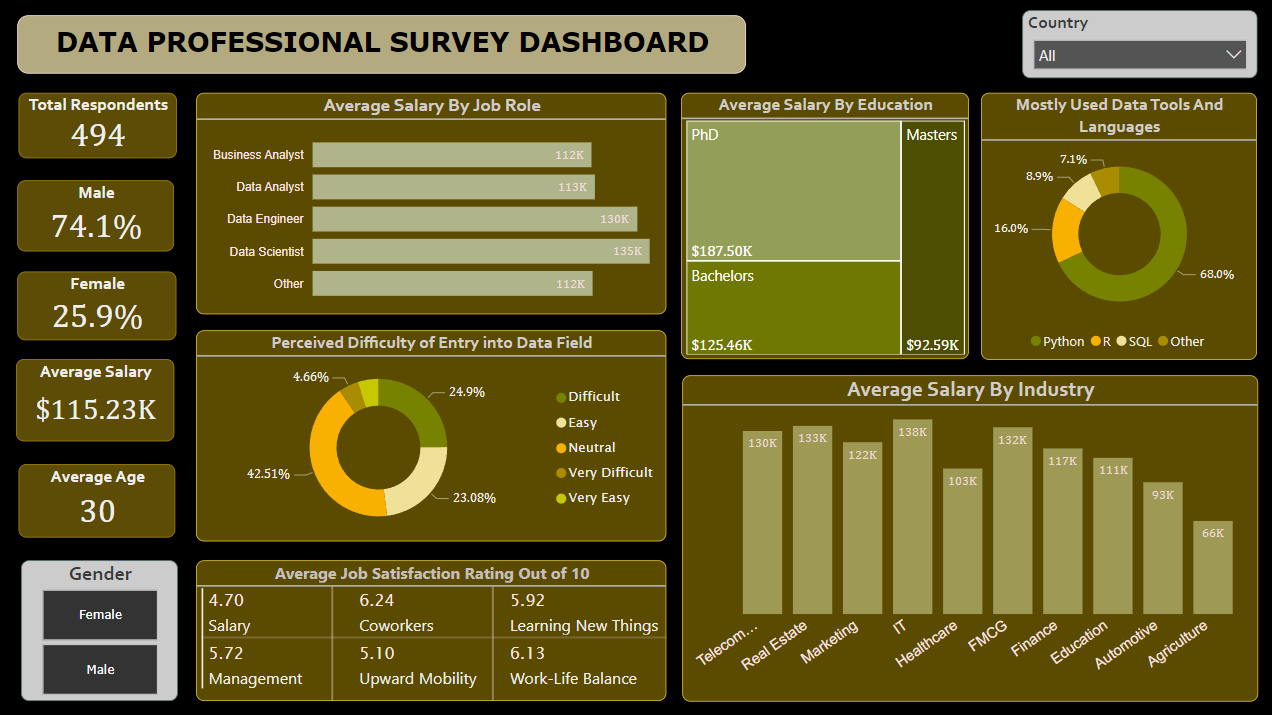

The dashboard page shown, as its layout file describes it:
{"tool":"powerbi","page":{"name":"Page 1","canvas":[1280,720],"ordinal":0},"visuals":[{"type":"card","title":"Total Respondents","fields":{"Values":["All Measures.total"]},"box":[22.8,93.6,158.1,65.8],"z":0},{"type":"card","title":"Male ","fields":{"Values":["All Measures.% Male"]},"box":[21.4,180.9,157.1,71.4],"z":1000},{"type":"card","title":"Female","fields":{"Values":["All Measures.% Female"]},"box":[21.4,272.5,159.5,69],"z":2000},{"type":"textbox","box":[21.5,16.4,728.7,58.2],"z":3000},{"type":"card","title":"Average Salary","fields":{"Values":["All Measures.avg salary"]},"box":[20.2,360.6,158.3,82.1],"z":4000},{"type":"barChart","title":"Average Salary By Job Role","fields":{"Y":["Avg(Data Professional Survey.salary avg)"],"Category":["Data Professional Survey.Job Role"]},"box":[199.9,93.6,470.6,221.4],"z":5000},{"type":"donutChart","title":"Mostly Used Data Tools And Languages","fields":{"Category":["Data Professional Survey.Data Tools And Languages"],"Y":["All Measures.total"]},"box":[985.5,93.6,275.8,266.9],"z":6000},{"type":"card","title":"Average Age","fields":{"Values":["All Measures.avg age"]},"box":[22.6,465.3,157.1,73.8],"z":7000},{"type":"treemap","title":"Average Salary By Education","fields":{"Group":["Data Professional Survey.Education"],"Values":["All Measures.avg salary"]},"box":[685.5,94,288,266.6],"z":8000},{"type":"multiRowCard","title":"Average Job Satisfaction Rating Out of 10","fields":{"Values":["Avg(Data Professional Survey.Q6 - How Happy are you in your Current Position with the following? (Salary))","Avg(Data Professional Survey.Q6 - How Happy are you in your Current Position with the following? (Coworkers))","Avg(Data Professional Survey.Q6 - How Happy are you in your Current Position with the following? (Learning New Things))","Avg(Data Professional Survey.Q6 - How Happy are you in your Current Position with the following? (Management))","Avg(Data Professional Survey.Q6 - How Happy are you in your Current Position with the following? (Upward Mobility))","Avg(Data Professional Survey.Q6 - How Happy are you in your Current Position with the following? (Work/Life Balance))"]},"box":[199.9,561.7,470.6,140.4],"z":9000},{"type":"slicer","title":"Country","fields":{"Values":["Data Professional Survey.Q11 - Which Country do you live in?"]},"box":[1026,11.4,235.3,68.3],"z":10000},{"type":"columnChart","title":"Average Salary By Industry","fields":{"Category":["Data Professional Survey.Industry"],"Y":["All Measures.avg salary"]},"box":[685.7,375.7,575.6,326.4],"z":11000},{"type":"pieChart","title":"Perceived Difficulty of Entry into Data Field","fields":{"Category":["Data Professional Survey.Q7 - How difficult was it for you to break into Data?"],"Y":["All Measures.total"]},"box":[199.9,331.4,470.6,211.3],"z":12000},{"type":"shape","box":[330.1,587.9,12.5,114.2],"z":13000},{"type":"shape","box":[491.5,587.9,11.3,114.2],"z":14000},{"type":"shape","box":[204.7,633.1,465.3,11.9],"z":15000},{"type":"slicer","title":"Gender","fields":{"Values":["Data Professional Survey.Q9 - Male/Female?"]},"box":[25.3,561.7,156.9,140.4],"z":16000}]}

Visuals, with their boxes in screenshot pixels (x1, y1, x2, y2), scaled from the page's 1280x720 canvas onto the 1272x715 screenshot:
"Total Respondents" card: 23/93/180/158
"Male " card: 21/180/177/251
"Female" card: 21/271/180/339
textbox: 21/16/746/74
"Average Salary" card: 20/358/177/440
"Average Salary By Job Role" barChart: 199/93/666/313
"Mostly Used Data Tools And Languages" donutChart: 979/93/1253/358
"Average Age" card: 22/462/179/535
"Average Salary By Education" treemap: 681/93/967/358
"Average Job Satisfaction Rating Out of 10" multiRowCard: 199/558/666/697
"Country" slicer: 1020/11/1253/79
"Average Salary By Industry" columnChart: 681/373/1253/697
"Perceived Difficulty of Entry into Data Field" pieChart: 199/329/666/539
shape: 328/584/340/697
shape: 488/584/500/697
shape: 203/629/666/641
"Gender" slicer: 25/558/181/697
